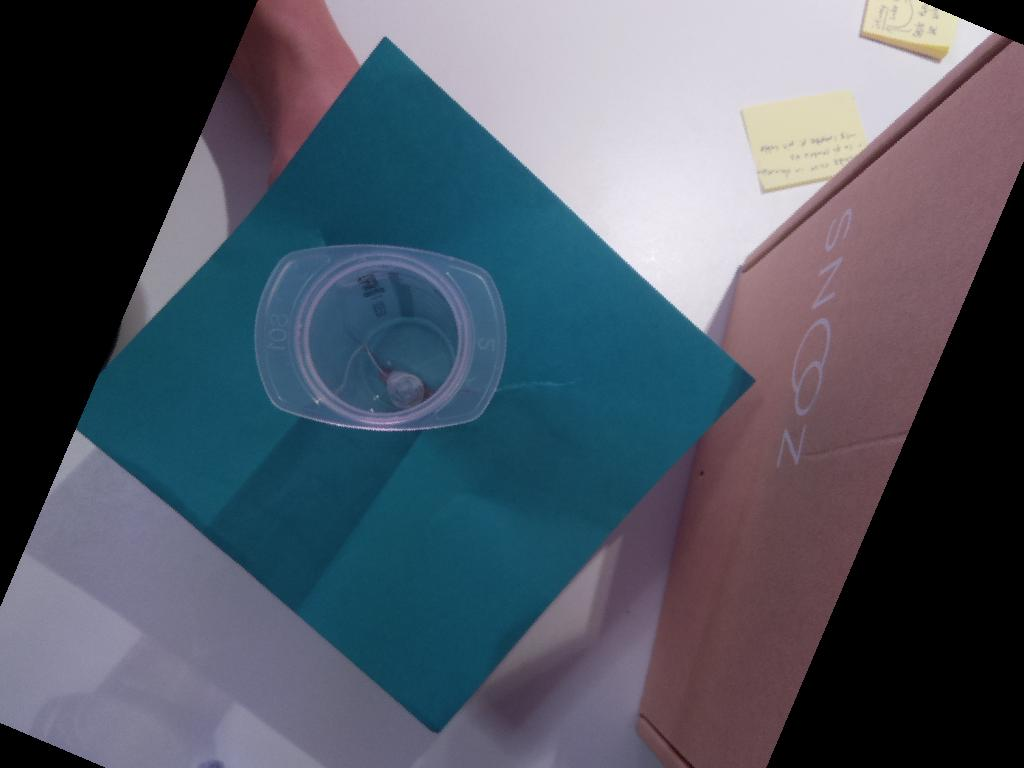clean: (252, 243, 509, 433)
